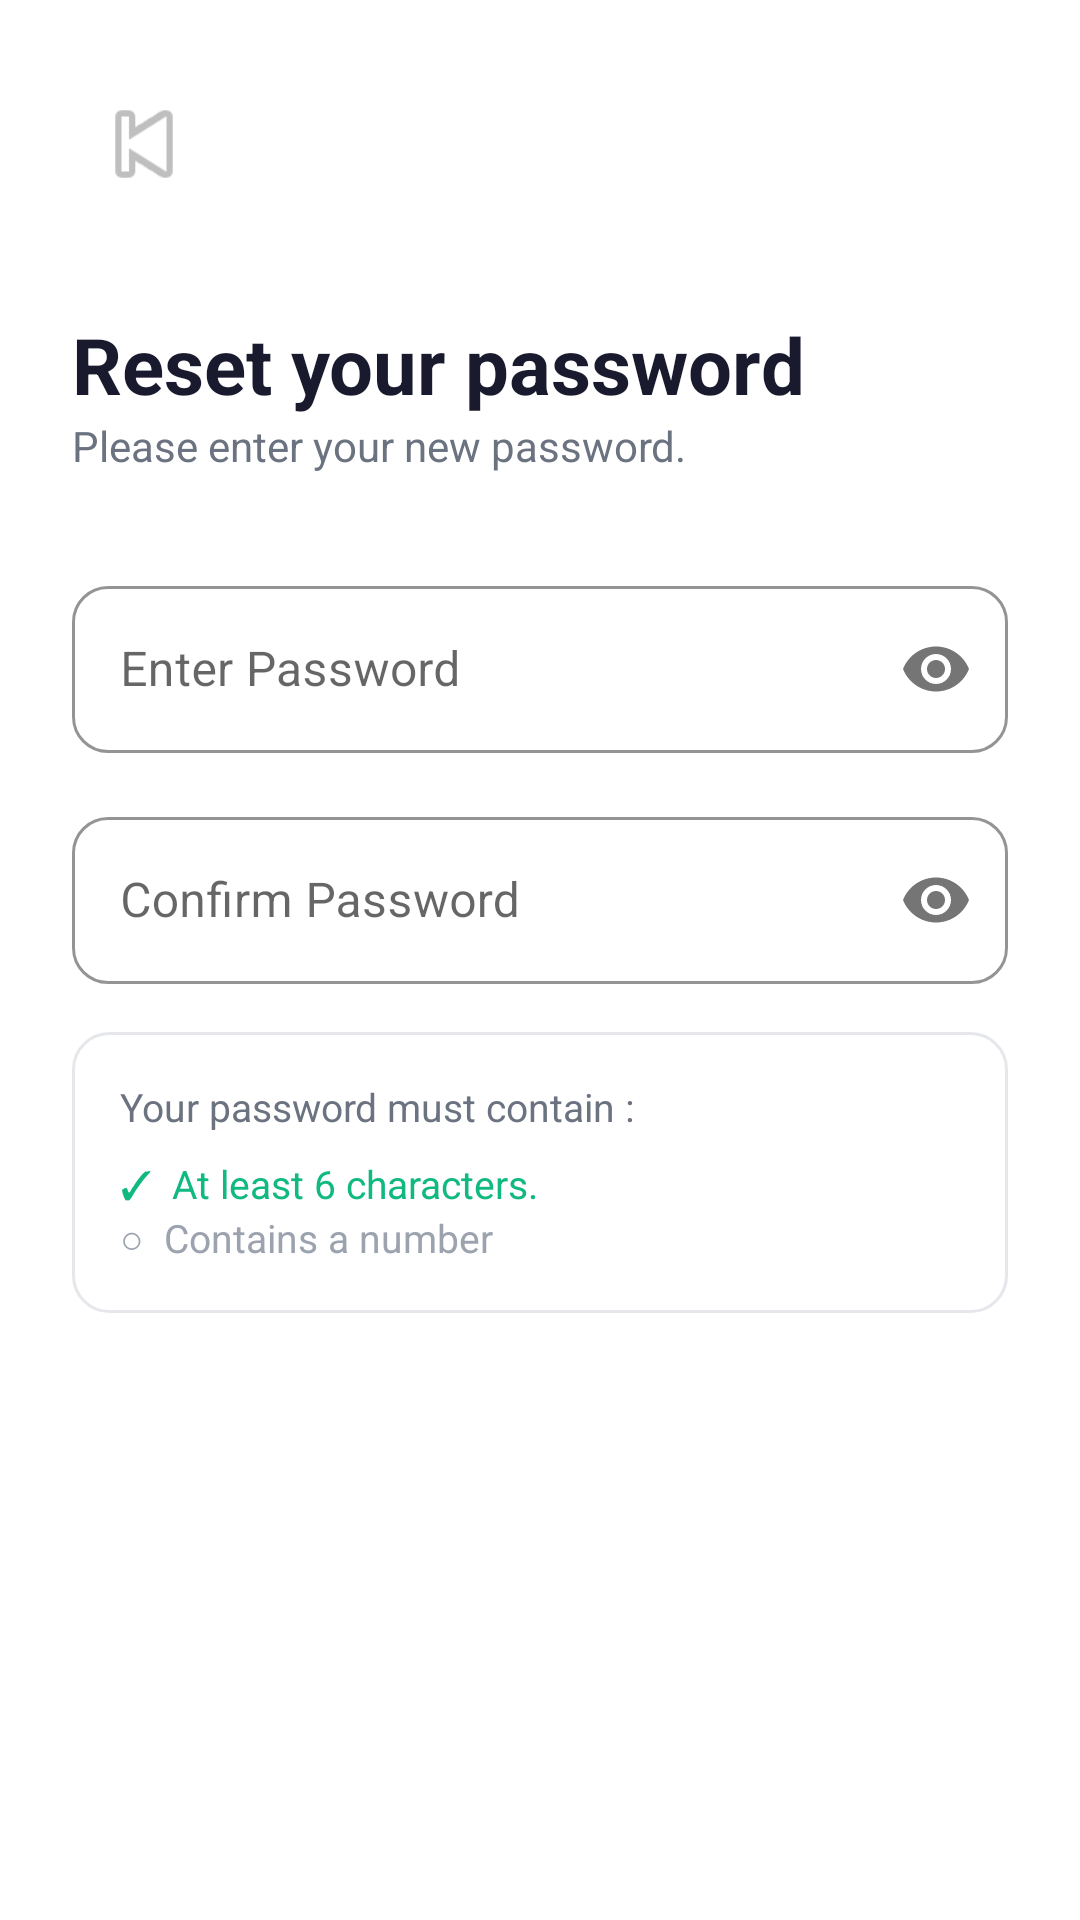

Point at icon controls on the screen. Image size 1080w x 1920h, points as (x=x, y=y).
Back: (x=144, y=144)
